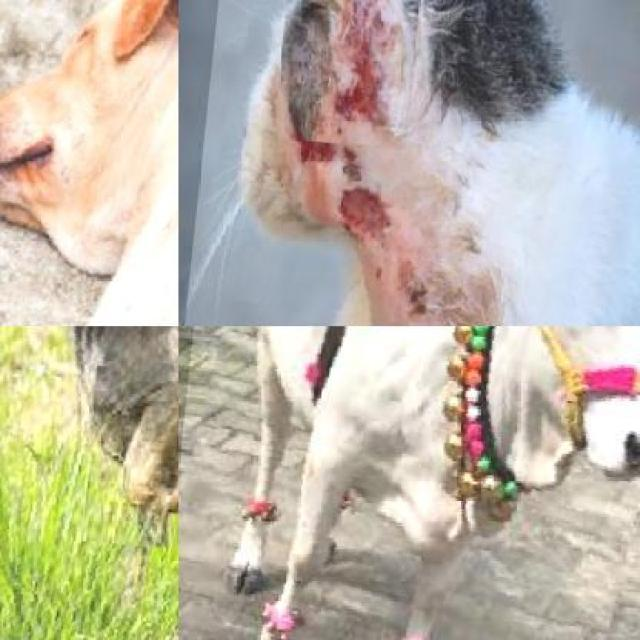cat: (178, 0, 640, 326)
cow: (178, 326, 640, 640)
dog: (0, 0, 178, 326), (0, 326, 178, 640)
injured: (272, 0, 430, 149), (78, 364, 178, 556), (318, 159, 414, 278), (265, 101, 347, 212)
